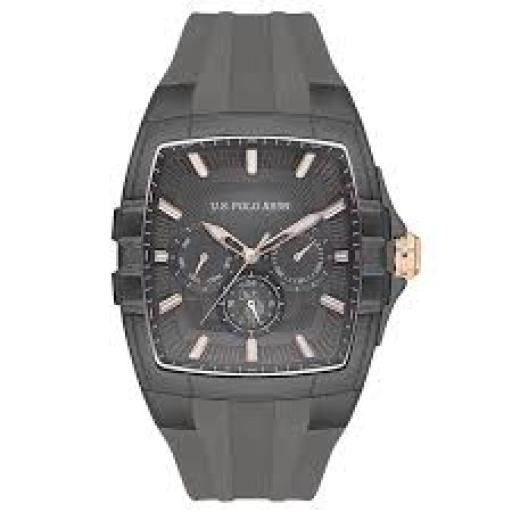KolSaati: (96, 12, 436, 512)
